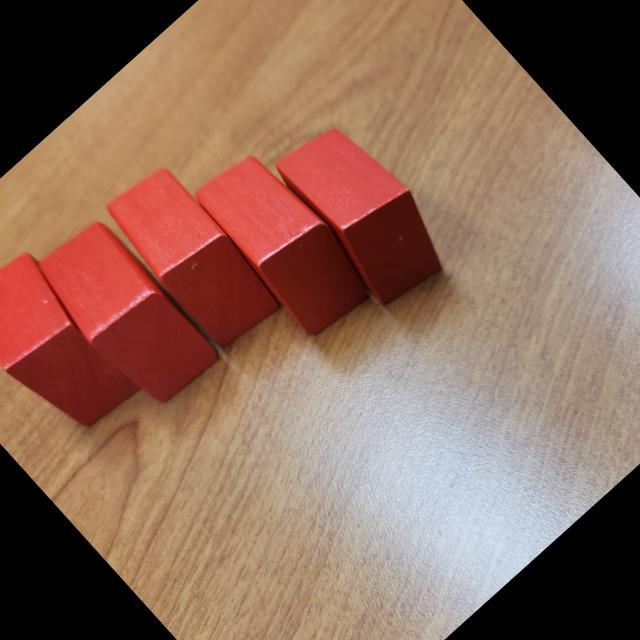red: (263, 108, 464, 316), (26, 210, 226, 418), (186, 140, 384, 345), (94, 156, 288, 358), (0, 241, 148, 449)
